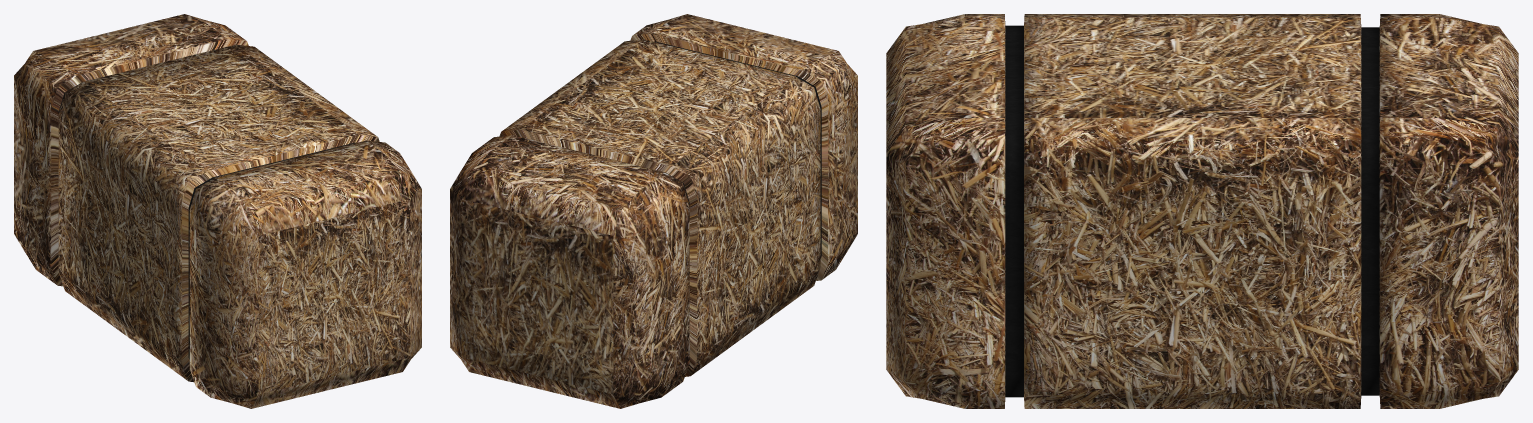
The model's file is haybale.fbx.
3 renders of one model, left to right at view 1: azimuth 30°, elevation 25°; view 2: azimuth 150°, elevation 25°; view 3: azimuth 270°, elevation 25°, orthographic. The views are drawn at different scales.
Parts seen in each view (by area): view 1: Hay Bale; view 2: Hay Bale; view 3: Hay Bale.
Part boxes in pixels (left/top/right/bottom): Hay Bale: left=14, top=14, right=421, bottom=408; Hay Bale: left=450, top=14, right=857, bottom=408; Hay Bale: left=886, top=14, right=1518, bottom=408.
Size of the model in its own units: 2.23 by 2.23 by 4.45.
Materials: 2 (2 with a texture image).
